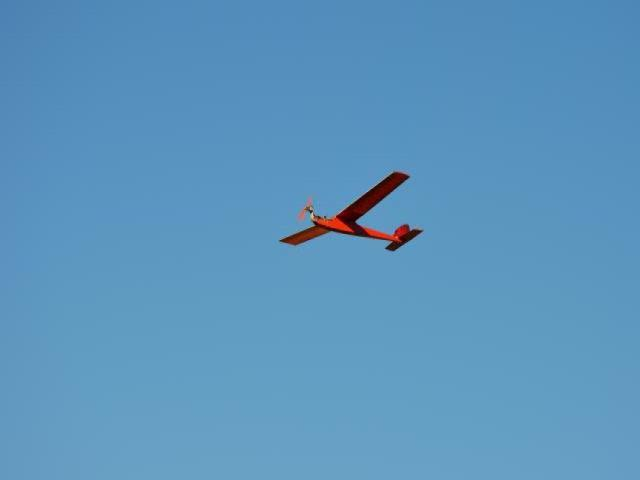iha: (280, 172, 432, 254)
